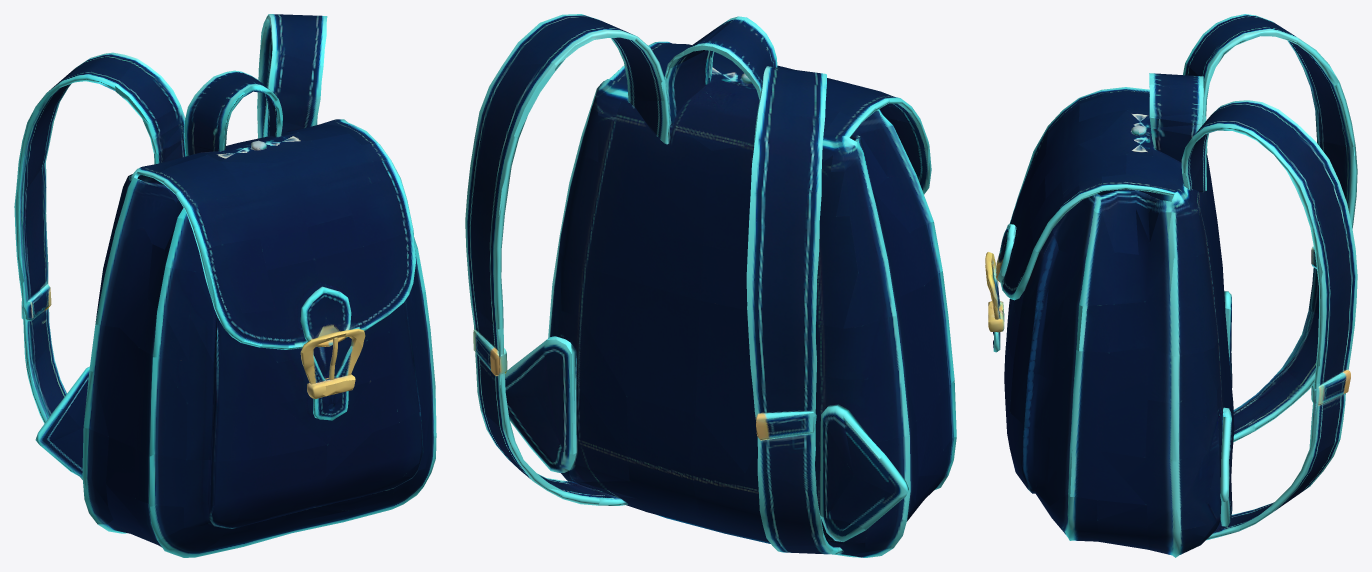
Rendered from hub_prop_bag.glb.
3 renders of one model, left to right at view 1: azimuth 30°, elevation 25°; view 2: azimuth 150°, elevation 25°; view 3: azimuth 270°, elevation 25°, orthographic. The views are drawn at different scales.
Size of the model in its own units: 0.8535 by 1 by 0.7695.
1 material, 1 textured.
